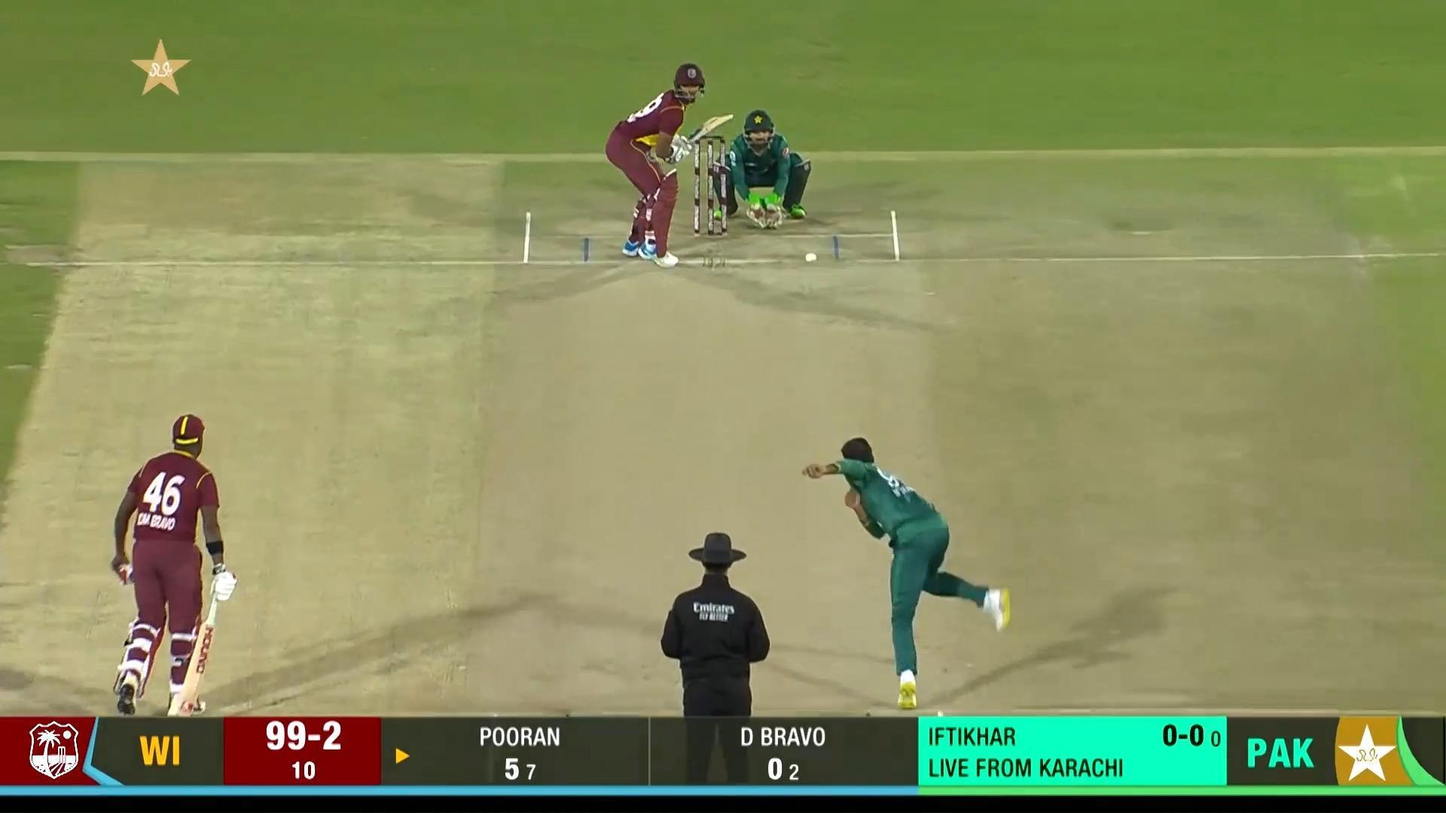BM 1: (605, 63, 734, 268)
BO: (802, 436, 1015, 711)
